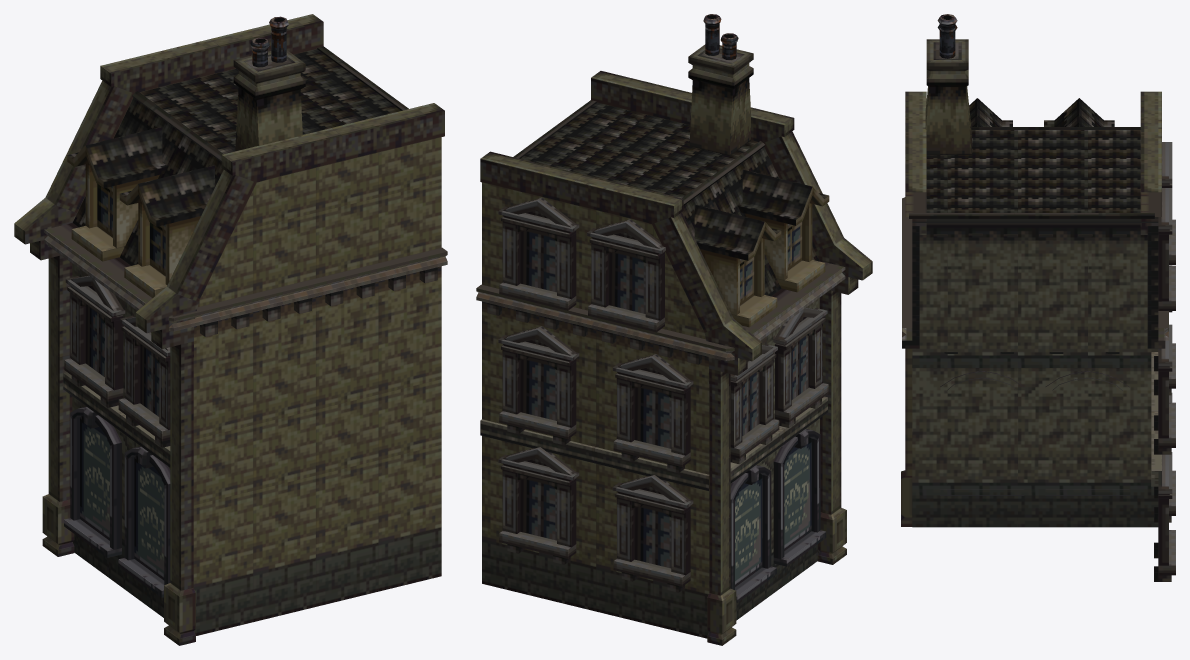
Rendered from EnvBdgMD_City_B_Outdoor_L_E_Arrange_A.FBX.
3 renders of one model, left to right at view 1: azimuth 30°, elevation 25°; view 2: azimuth 150°, elevation 25°; view 3: azimuth 270°, elevation 25°, orthographic. The views are drawn at different scales.
Parts seen in each view (by area): view 1: EnvBdgMD_City_B_Outdoor_L_E_Arrange_A; view 2: EnvBdgMD_City_B_Outdoor_L_E_Arrange_A; view 3: EnvBdgMD_City_B_Outdoor_L_E_Arrange_A.
Part boxes in pixels (left/top/right/bottom): EnvBdgMD_City_B_Outdoor_L_E_Arrange_A: left=14, top=14, right=447, bottom=645; EnvBdgMD_City_B_Outdoor_L_E_Arrange_A: left=476, top=14, right=872, bottom=645; EnvBdgMD_City_B_Outdoor_L_E_Arrange_A: left=901, top=14, right=1175, bottom=581.
Size of the model in its own units: 477 by 880 by 391.
Materials: 1 (1 with a texture image).
